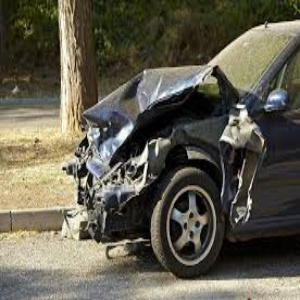bonnet: (81, 59, 212, 134)
